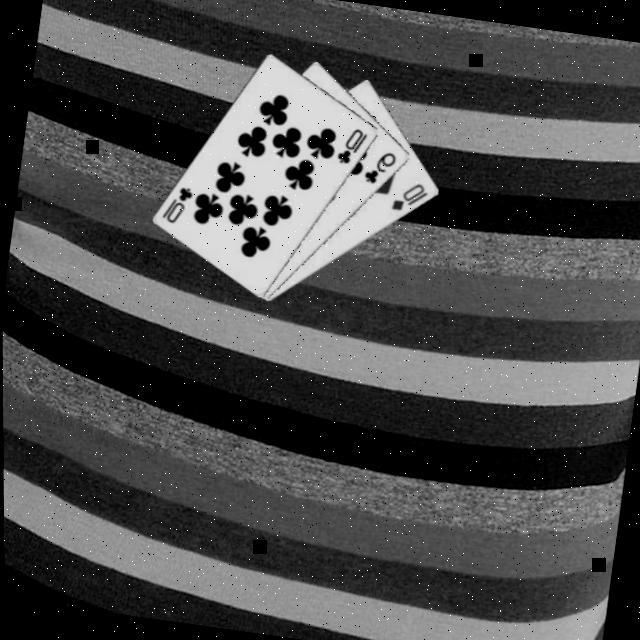10C: (155, 181, 195, 229), (330, 124, 370, 170)
10D: (385, 178, 430, 218)
9C: (357, 146, 398, 191)
